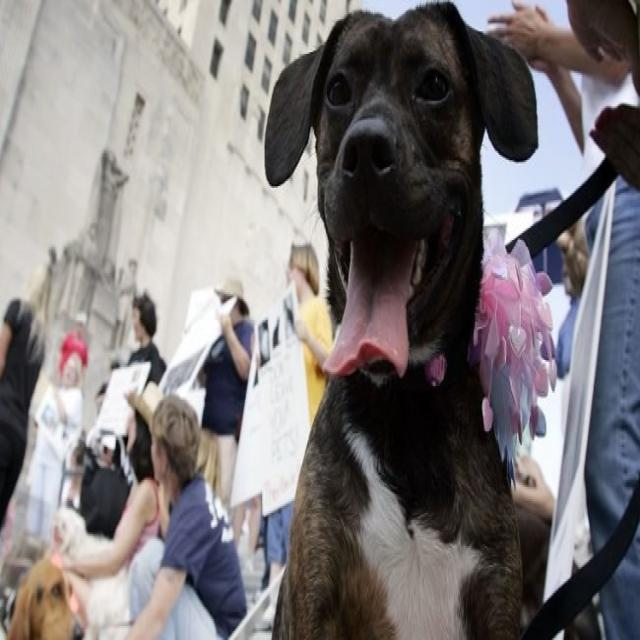dog: (246, 0, 568, 383)
